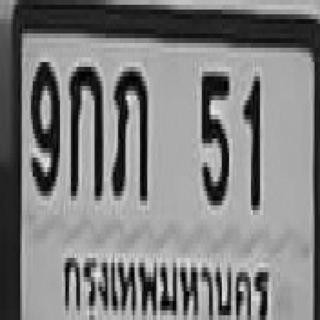A01: (67, 62, 102, 196)
A32: (110, 62, 146, 196)
N01: (242, 72, 258, 205)
N05: (200, 67, 227, 201)
N09: (29, 57, 58, 191)
P04: (59, 245, 272, 320)
